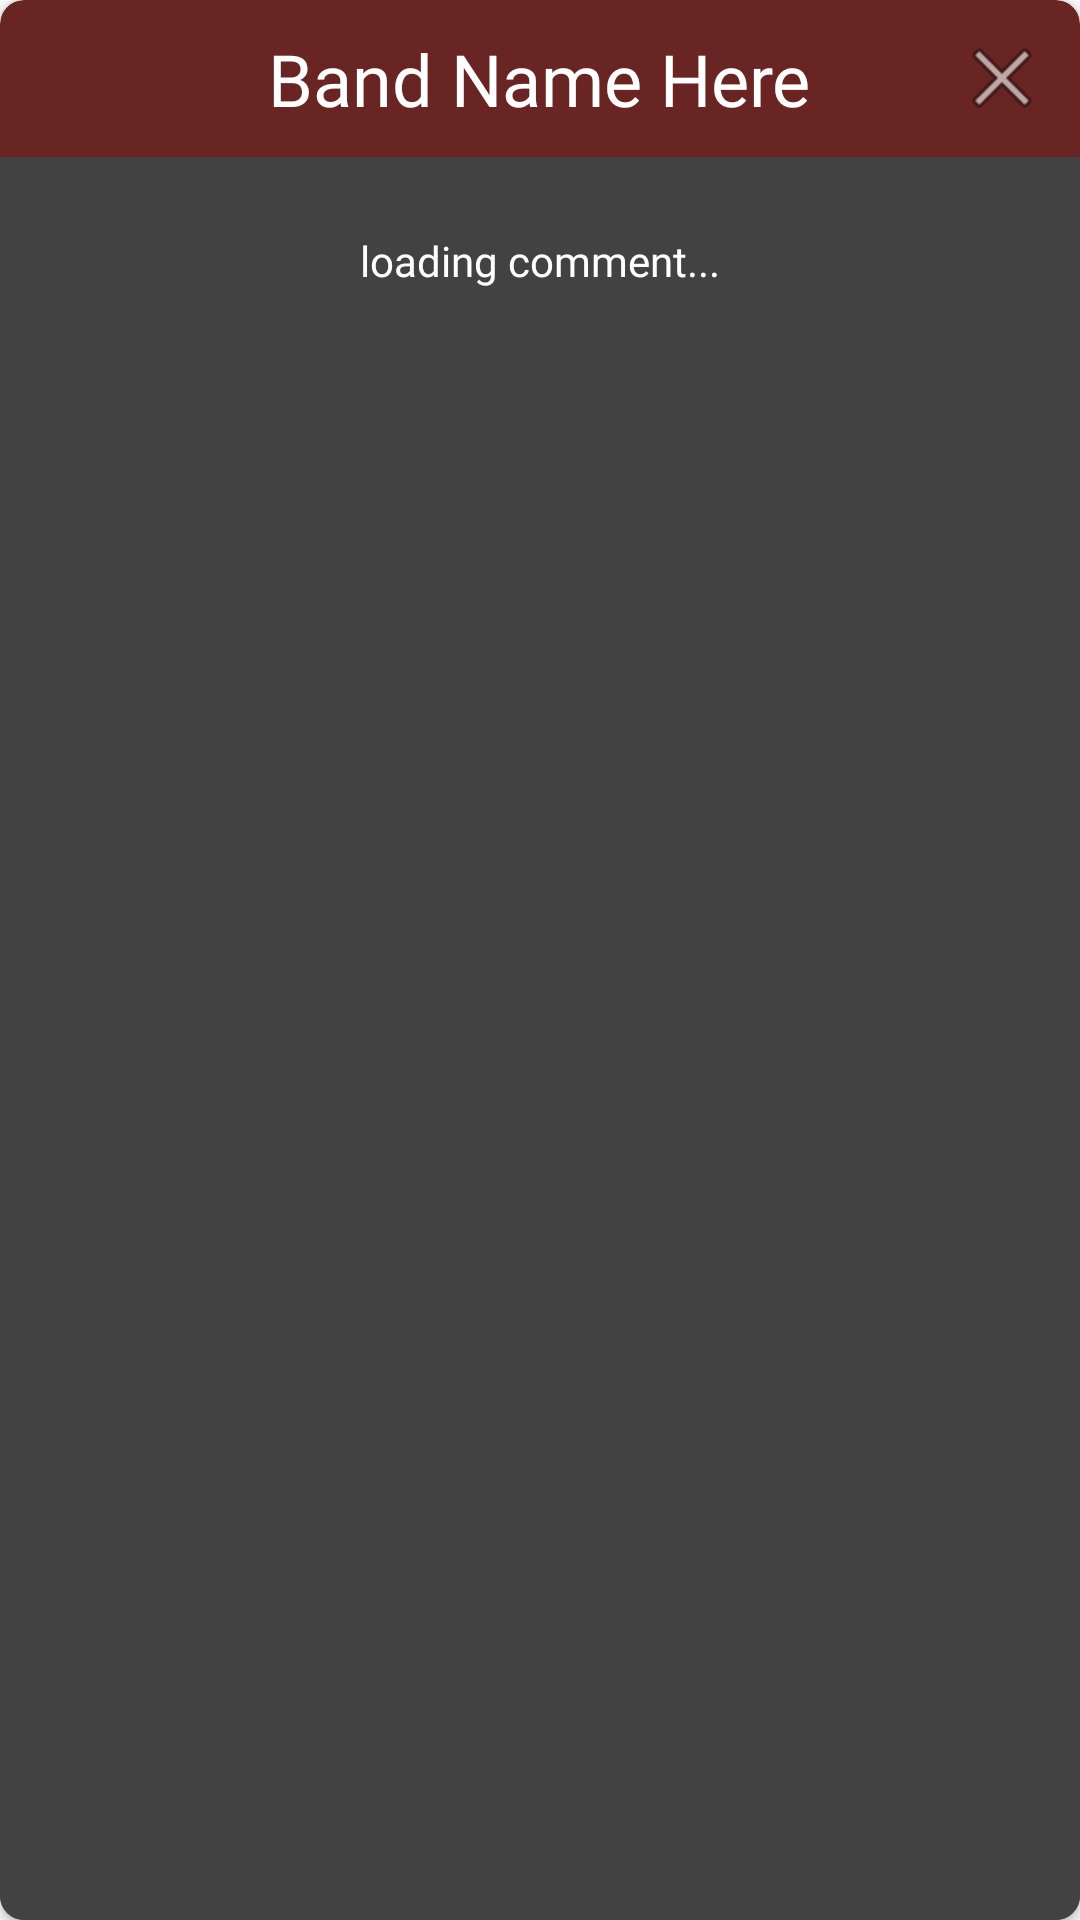

Icon bounding boxes for this 1080px×1920px phone screenshot, format (x1, y1, x2, y2):
close comment window: (973, 0, 1080, 107)
